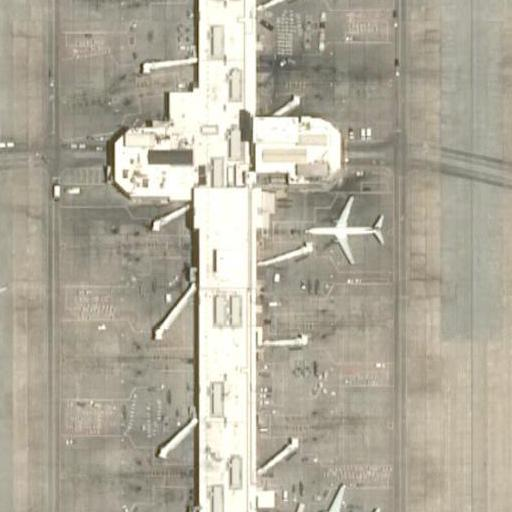Aircraft: (305, 199, 389, 267), (285, 485, 384, 512), (0, 491, 20, 512), (0, 258, 6, 323)
